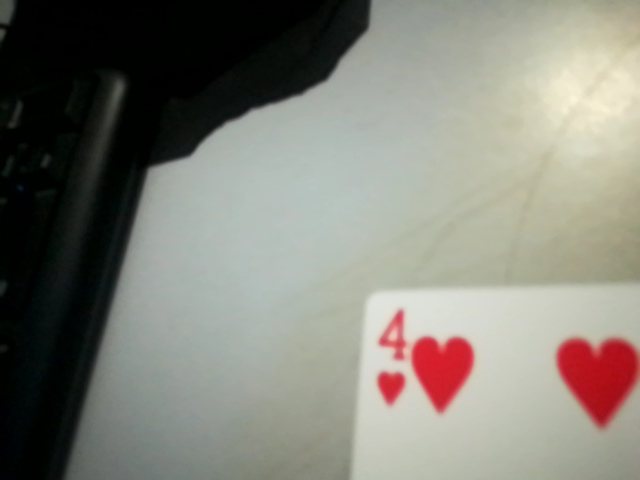hx 4: (361, 297, 418, 417)
